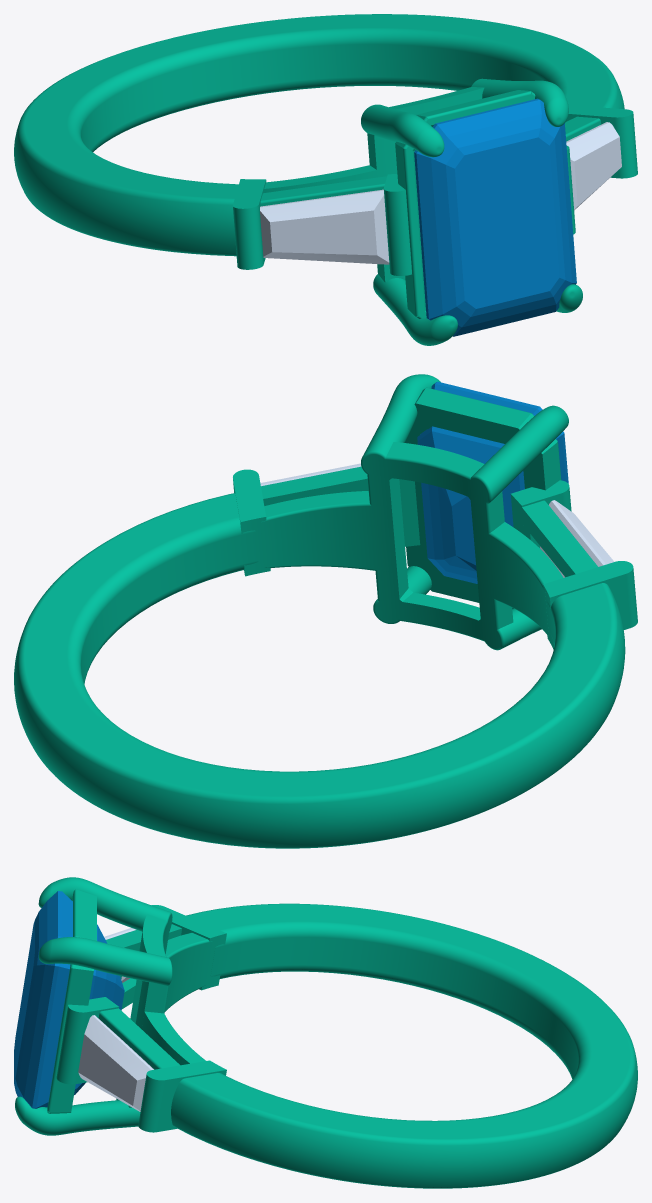
3 renders of one model, top to bottom at view 1: azimuth 30°, elevation 25°; view 2: azimuth 150°, elevation 25°; view 3: azimuth 270°, elevation 25°, orthographic. The views are drawn at different scales.
Visible parts, largest first — view 1: VR532 27.8.25(base).3dm, Diamond_Emerald, Custom_Baguette_v1.0_Length5.000000_BottomWidth3.000000_TopW (×2), Bezel (×4), Head Prong (×4); view 2: VR532 27.8.25(base).3dm, Bezel (×4), Head Prong (×4), Diamond_Emerald, Custom_Baguette_v1.0_Length5.000000_BottomWidth3.000000_TopW; view 3: VR532 27.8.25(base).3dm, Head Prong (×3), Diamond_Emerald, Bezel (×4), Custom_Baguette_v1.0_Length5.000000_BottomWidth3.000000_TopW.
Part boxes in pixels (x1,y1,x2,y2): VR532 27.8.25(base).3dm: (14, 14, 637, 275); Diamond_Emerald: (414, 98, 576, 336); Custom_Baguette_v1.0_Length5.000000_BottomWidth3.000000_TopW (×2): (260, 122, 621, 264); Bezel (×4): (260, 87, 600, 318); Head Prong (×4): (361, 78, 582, 345); VR532 27.8.25(base).3dm: (14, 469, 637, 848); Bezel (×4): (261, 387, 597, 641); Head Prong (×4): (361, 374, 568, 650); Diamond_Emerald: (417, 381, 568, 583); Custom_Baguette_v1.0_Length5.000000_BottomWidth3.000000_TopW: (540, 500, 614, 577); VR532 27.8.25(base).3dm: (56, 903, 637, 1188); Head Prong (×3): (15, 877, 172, 1135); Diamond_Emerald: (14, 891, 124, 1108); Bezel (×4): (47, 889, 181, 1113); Custom_Baguette_v1.0_Length5.000000_BottomWidth3.000000_TopW: (78, 1015, 153, 1111).
Bounding box in the file's own units: 2.57 × 1.01 × 2.9.
